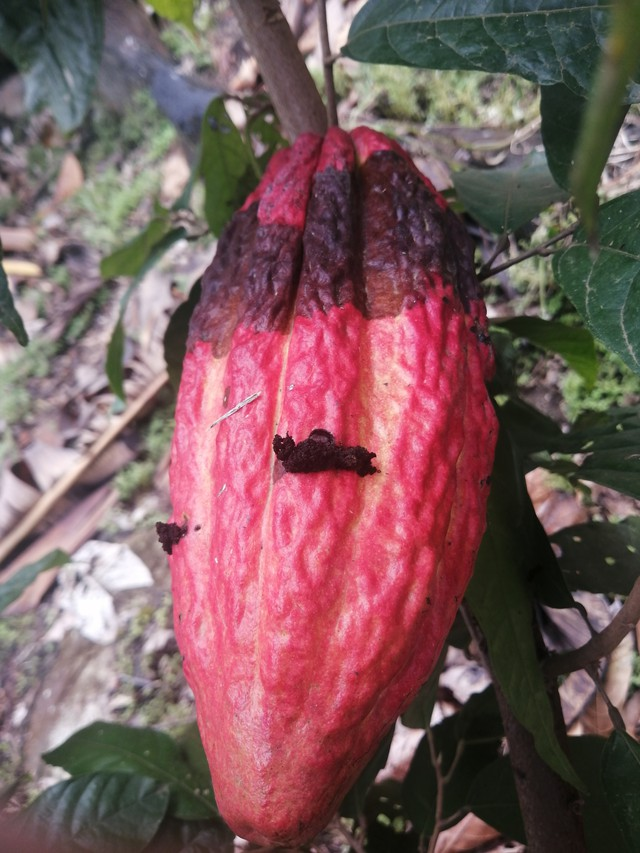carmenta foraseminis: (161, 120, 502, 853)
